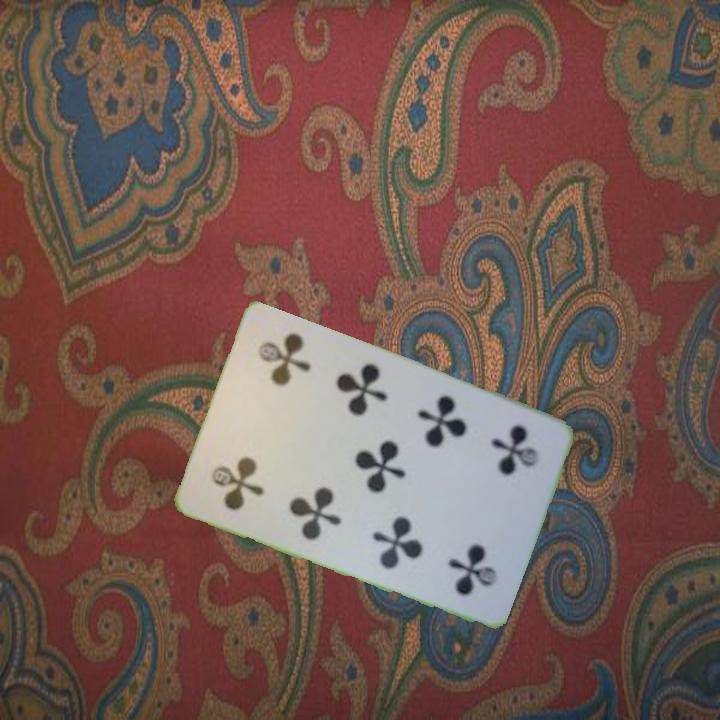c_9.png: (445, 402, 559, 524), (191, 407, 305, 529)
